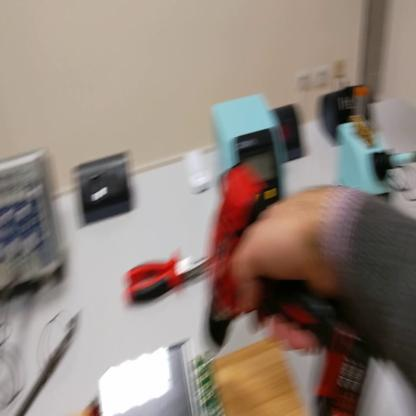electric screwdriver: (209, 159, 348, 416)
hand: (231, 182, 390, 377)
low voltage board: (78, 339, 228, 416)
oscilloscope: (2, 147, 60, 301)
oscilloscope probe tip: (14, 334, 71, 416)
pliers: (127, 248, 209, 305)
socket: (320, 81, 375, 140), (271, 103, 302, 162)
welder base: (337, 83, 398, 208)
welder probe tip: (380, 151, 416, 174)
welder station: (211, 95, 286, 223)
working area: (202, 344, 307, 416)
